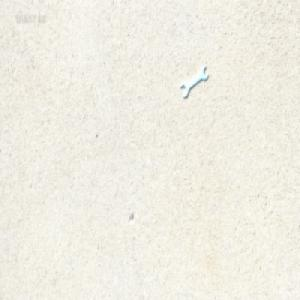Wrench: (181, 64, 207, 97)
